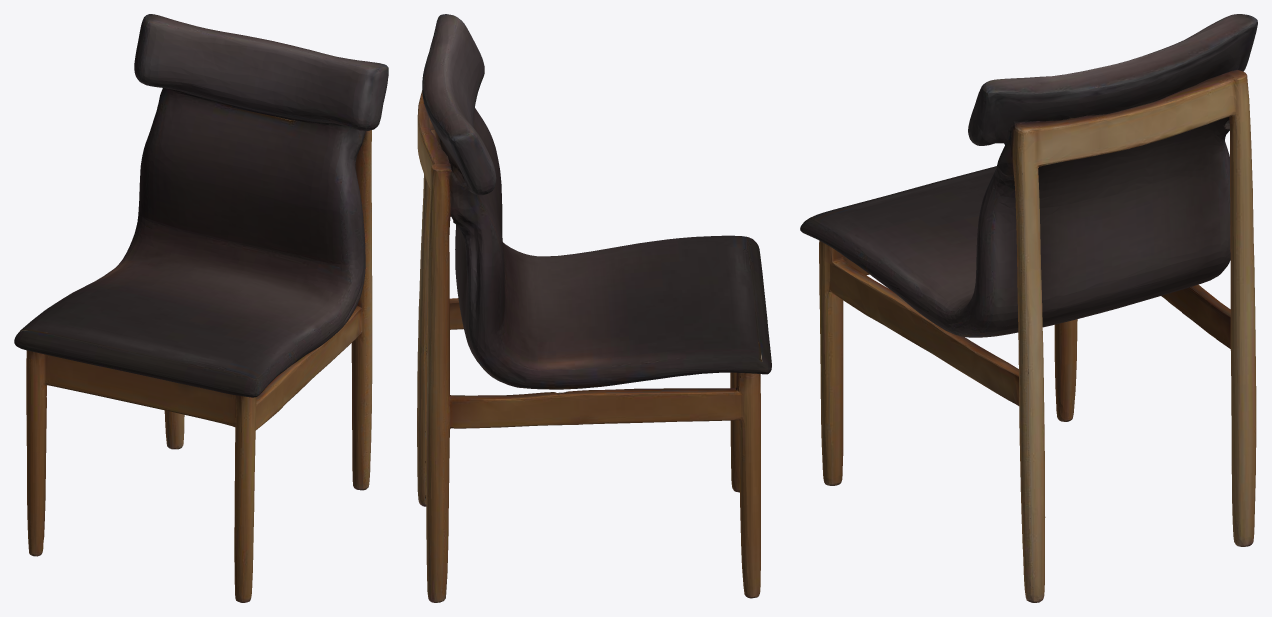
File: dark_brown_leather_chair_on_the_left_000.glb
3 views of the same model, side by side, from view 1: azimuth 30°, elevation 25°; view 2: azimuth 150°, elevation 25°; view 3: azimuth 270°, elevation 25° (orthographic). The views are drawn at different scales.
Parts seen in each view (by area): view 1: phase2_final_dark_brown_leather_chair_on_the_left_000.obj; view 2: phase2_final_dark_brown_leather_chair_on_the_left_000.obj; view 3: phase2_final_dark_brown_leather_chair_on_the_left_000.obj.
Boxes of the visible parts, x1,y1,x2,y2 form: phase2_final_dark_brown_leather_chair_on_the_left_000.obj: [14, 14, 388, 602]; phase2_final_dark_brown_leather_chair_on_the_left_000.obj: [417, 14, 771, 602]; phase2_final_dark_brown_leather_chair_on_the_left_000.obj: [800, 14, 1257, 602].
Bounding box in the file's own units: 0.5745 × 0.7052 × 0.5678.
1 material, 1 textured.
